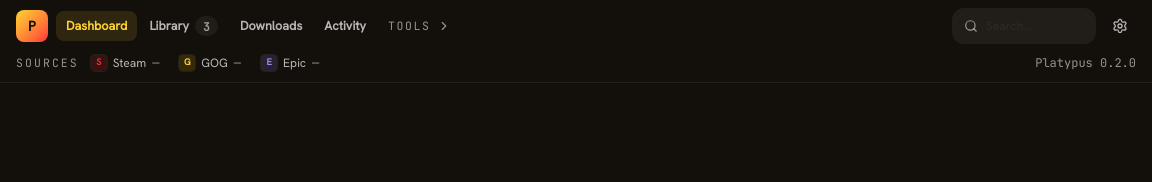
shell navigation variants › topbar mode keeps Settings and Plugins reachable, with axe clean
The width and height of the screenshot is (1152, 182).
Expected: the header is shown, left=0, top=0, right=1151, bottom=83
Expected: the button named "Settings" is shown, left=1104, top=10, right=1136, bottom=42
# Plugins sits in the Tools menu in topbar mode.
Click the button "Tools" at (419, 26), box left=378, top=11, right=461, bottom=41
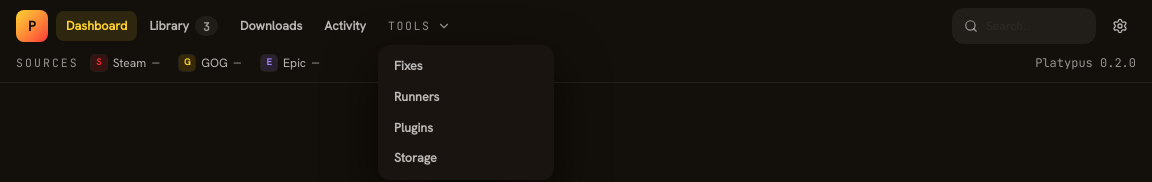
Result: the menu item "Plugins" is shown at left=384, top=112, right=548, bottom=143
